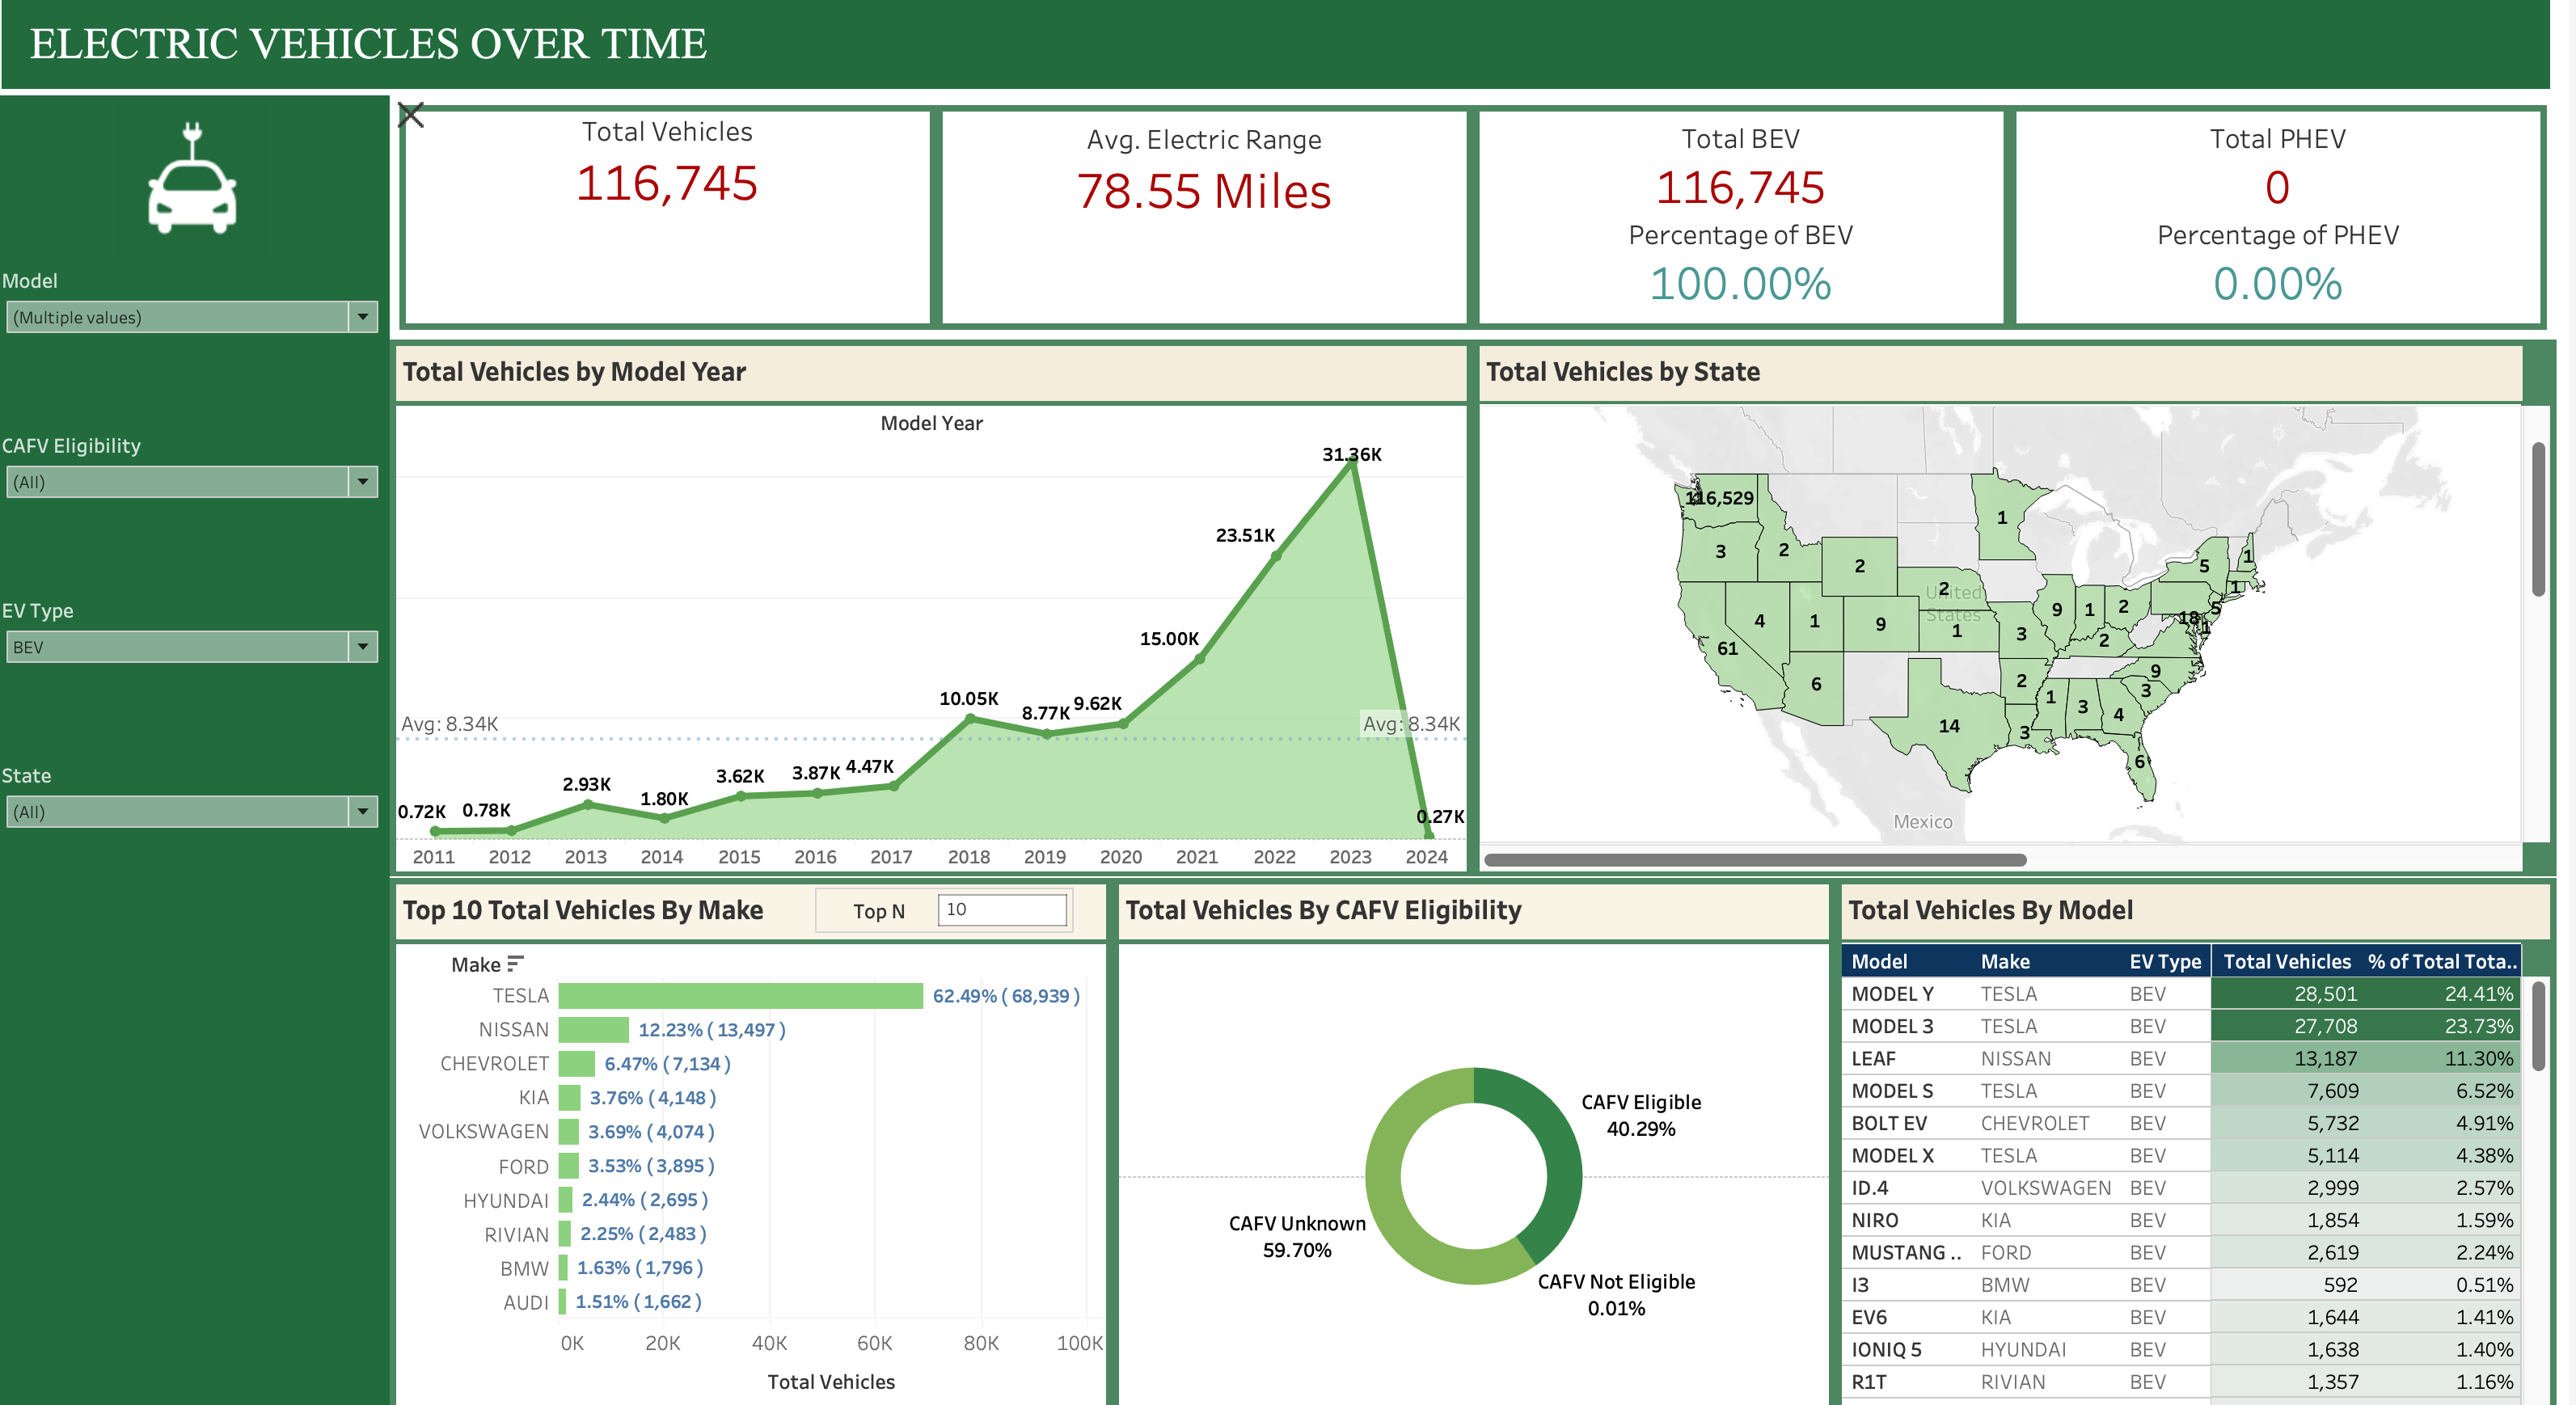

This screenshot's page, from the dashboard's own definition file:
{"tool":"tableau","page":{"name":"Dashboard 1","canvas":[1000,1000],"units":"permille","ordinal":0},"visuals":[{"type":"title","box":[5.2,8.9,989.7,71.5]},{"type":"image","box":[5.2,80.5,152.7,114]},{"type":"dashboard-object","box":[157.8,80.5,15.5,26.8]},{"type":"worksheet","title":"Total Vehicles","mark":"Automatic","box":[161.7,87.2,207.6,155.3]},{"type":"worksheet","title":"Avg Electric Range","mark":"Automatic","box":[369.3,87.2,207.6,155.3]},{"type":"worksheet","title":"Total BEV","mark":"Automatic","box":[577,87.2,207,155.3]},{"type":"worksheet","title":"Total PHEV","mark":"Automatic","box":[784,87.2,207,155.3]},{"type":"filter","title":"Total Vehicles by Model Year","param":"[federated.0ypvmu61ajm92j13kq3dh1mxulmg].[none:Model:nk]","box":[5.2,194.4,152.7,114]},{"type":"worksheet","title":"Total Vehicles by Model Year","mark":"Area","rows":["Calculation_1629106822363443200","Calculation_1629106822363443200"],"cols":["Model Year"],"box":[157.8,249.2,418.5,370.9]},{"type":"worksheet","title":"Total Vehicles by State","mark":"Multipolygon","box":[576.3,249.2,418.5,370.9]},{"type":"filter","title":"Total Vehicles by State","param":"[federated.0ypvmu61ajm92j13kq3dh1mxulmg].[none:Clean Alternative Fuel Vehicle (C","box":[5.2,308.4,152.7,114]},{"type":"filter","title":"Total Vehicles by State","param":"[federated.0ypvmu61ajm92j13kq3dh1mxulmg].[none:Electric Vehicle Type:nk]","box":[5.2,422.4,152.7,114]},{"type":"filter","title":"Total Vehicles by State","param":"[federated.0ypvmu61ajm92j13kq3dh1mxulmg].[none:State:nk]","box":[5.2,536.3,152.7,114]},{"type":"worksheet","title":"Top 10 Total Vehicles By Make","mark":"Automatic","rows":["Make"],"cols":["Calculation_1629106822363443200"],"box":[157.8,620.1,279.4,370.9]},{"type":"worksheet","title":"Total Vehicles By CAFV Eligibility","mark":"Pie","rows":["Calculation_1629106822382329863","Calculation_1629106822382329863"],"box":[437.3,620.1,278.8,370.9]},{"type":"worksheet","title":"Total Vehicles By Model","mark":"Square","rows":["Model","Make","Electric Vehicle Type"],"box":[716,620.1,278.8,370.9]},{"type":"parameter","param":"[Parameters].[Parameter 1]","box":[322.1,626.8,100.3,31.3]},{"type":"blank","box":[5.2,650.3,152.7,114]},{"type":"blank","box":[5.2,764.2,152.7,114]},{"type":"blank","box":[5.2,878.2,152.7,112.9]}]}

Visuals, with their boxes on the dashboard's canvas, which has no fixed pixel size, in thousandths of its width and height (x1, y1, x2, y2). These are canvas units, not pixel positions in the 2576x1405 screenshot, which may show the page scaled, cropped or inside an application window:
title: [x1=5, y1=9, x2=995, y2=80]
image: [x1=5, y1=80, x2=158, y2=194]
dashboard-object: [x1=158, y1=80, x2=173, y2=107]
"Total Vehicles" worksheet: [x1=162, y1=87, x2=369, y2=242]
"Avg Electric Range" worksheet: [x1=369, y1=87, x2=577, y2=242]
"Total BEV" worksheet: [x1=577, y1=87, x2=784, y2=242]
"Total PHEV" worksheet: [x1=784, y1=87, x2=991, y2=242]
"Total Vehicles by Model Year" filter: [x1=5, y1=194, x2=158, y2=308]
"Total Vehicles by Model Year" worksheet (Area marks): [x1=158, y1=249, x2=576, y2=620]
"Total Vehicles by State" worksheet (Multipolygon marks): [x1=576, y1=249, x2=995, y2=620]
"Total Vehicles by State" filter: [x1=5, y1=308, x2=158, y2=422]
"Total Vehicles by State" filter: [x1=5, y1=422, x2=158, y2=536]
"Total Vehicles by State" filter: [x1=5, y1=536, x2=158, y2=650]
"Top 10 Total Vehicles By Make" worksheet: [x1=158, y1=620, x2=437, y2=991]
"Total Vehicles By CAFV Eligibility" worksheet (Pie marks): [x1=437, y1=620, x2=716, y2=991]
"Total Vehicles By Model" worksheet (Square marks): [x1=716, y1=620, x2=995, y2=991]
parameter: [x1=322, y1=627, x2=422, y2=658]
blank: [x1=5, y1=650, x2=158, y2=764]
blank: [x1=5, y1=764, x2=158, y2=878]
blank: [x1=5, y1=878, x2=158, y2=991]
